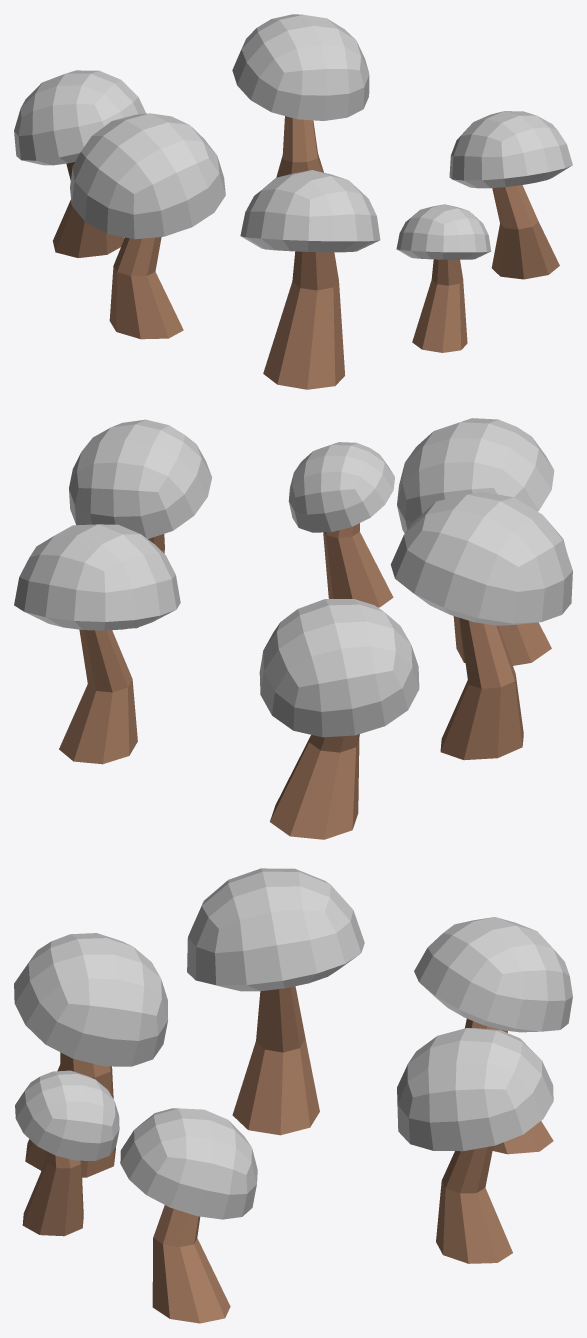
File: mesh_mushrooms_02_white.fbx
3 renders of one model, top to bottom at view 1: azimuth 30°, elevation 25°; view 2: azimuth 150°, elevation 25°; view 3: azimuth 270°, elevation 25°, orthographic. The views are drawn at different scales.
Visible parts, largest first — view 1: mesh_mushrooms_02_white_LOD0; view 2: mesh_mushrooms_02_white_LOD0; view 3: mesh_mushrooms_02_white_LOD0.
Part boxes in pixels (x1=…): mesh_mushrooms_02_white_LOD0: x1=14, y1=14, x2=572, y2=389; mesh_mushrooms_02_white_LOD0: x1=14, y1=418, x2=572, y2=839; mesh_mushrooms_02_white_LOD0: x1=14, y1=868, x2=572, y2=1323.
Size of what is drawn, in the model's own units: 0.9909 by 0.4431 by 0.928.
